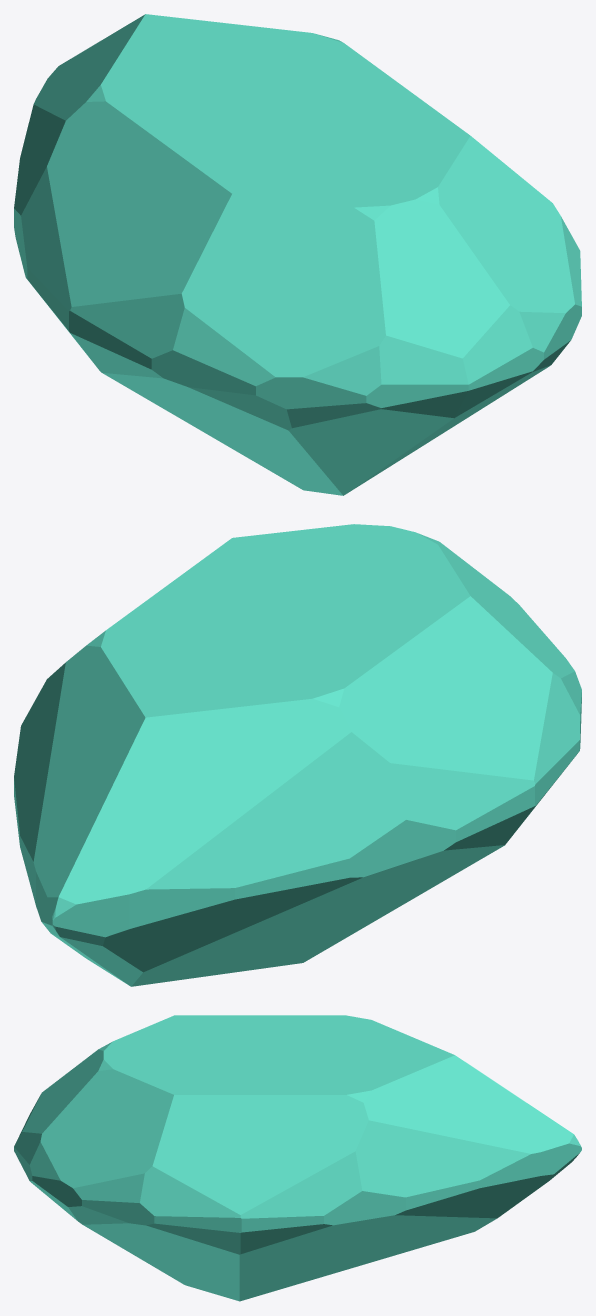
File: pear.glb
3 renders of one model, top to bottom at view 1: azimuth 30°, elevation 25°; view 2: azimuth 150°, elevation 25°; view 3: azimuth 270°, elevation 25°, orthographic. The views are drawn at different scales.
Parts seen in each view (by area): view 1: Prism_pear; view 2: Prism_pear; view 3: Prism_pear.
Boxes of the visible parts, left/top/right/bottom form: Prism_pear: left=14, top=14, right=581, bottom=495; Prism_pear: left=14, top=524, right=581, bottom=986; Prism_pear: left=14, top=1015, right=581, bottom=1301.
Size of the model in its own units: 1.5 by 1.11 by 2.32.
